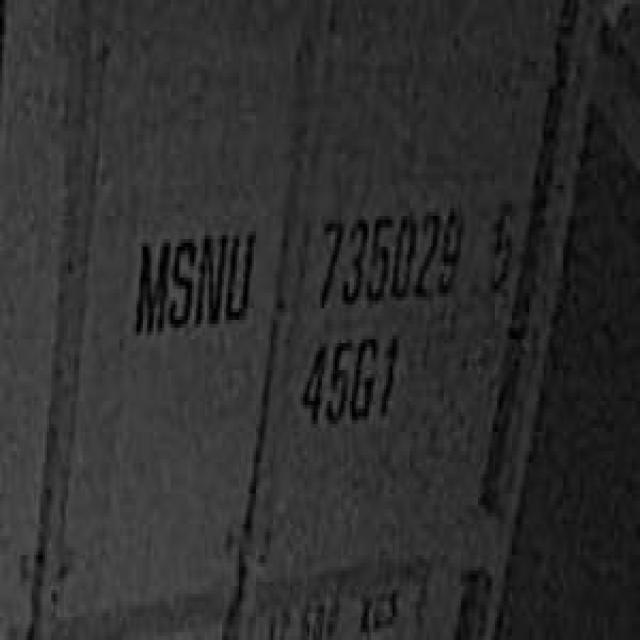dv: (477, 174, 522, 303)
owner: (128, 212, 256, 339)
serial: (316, 189, 465, 312)
size: (294, 324, 401, 436)
